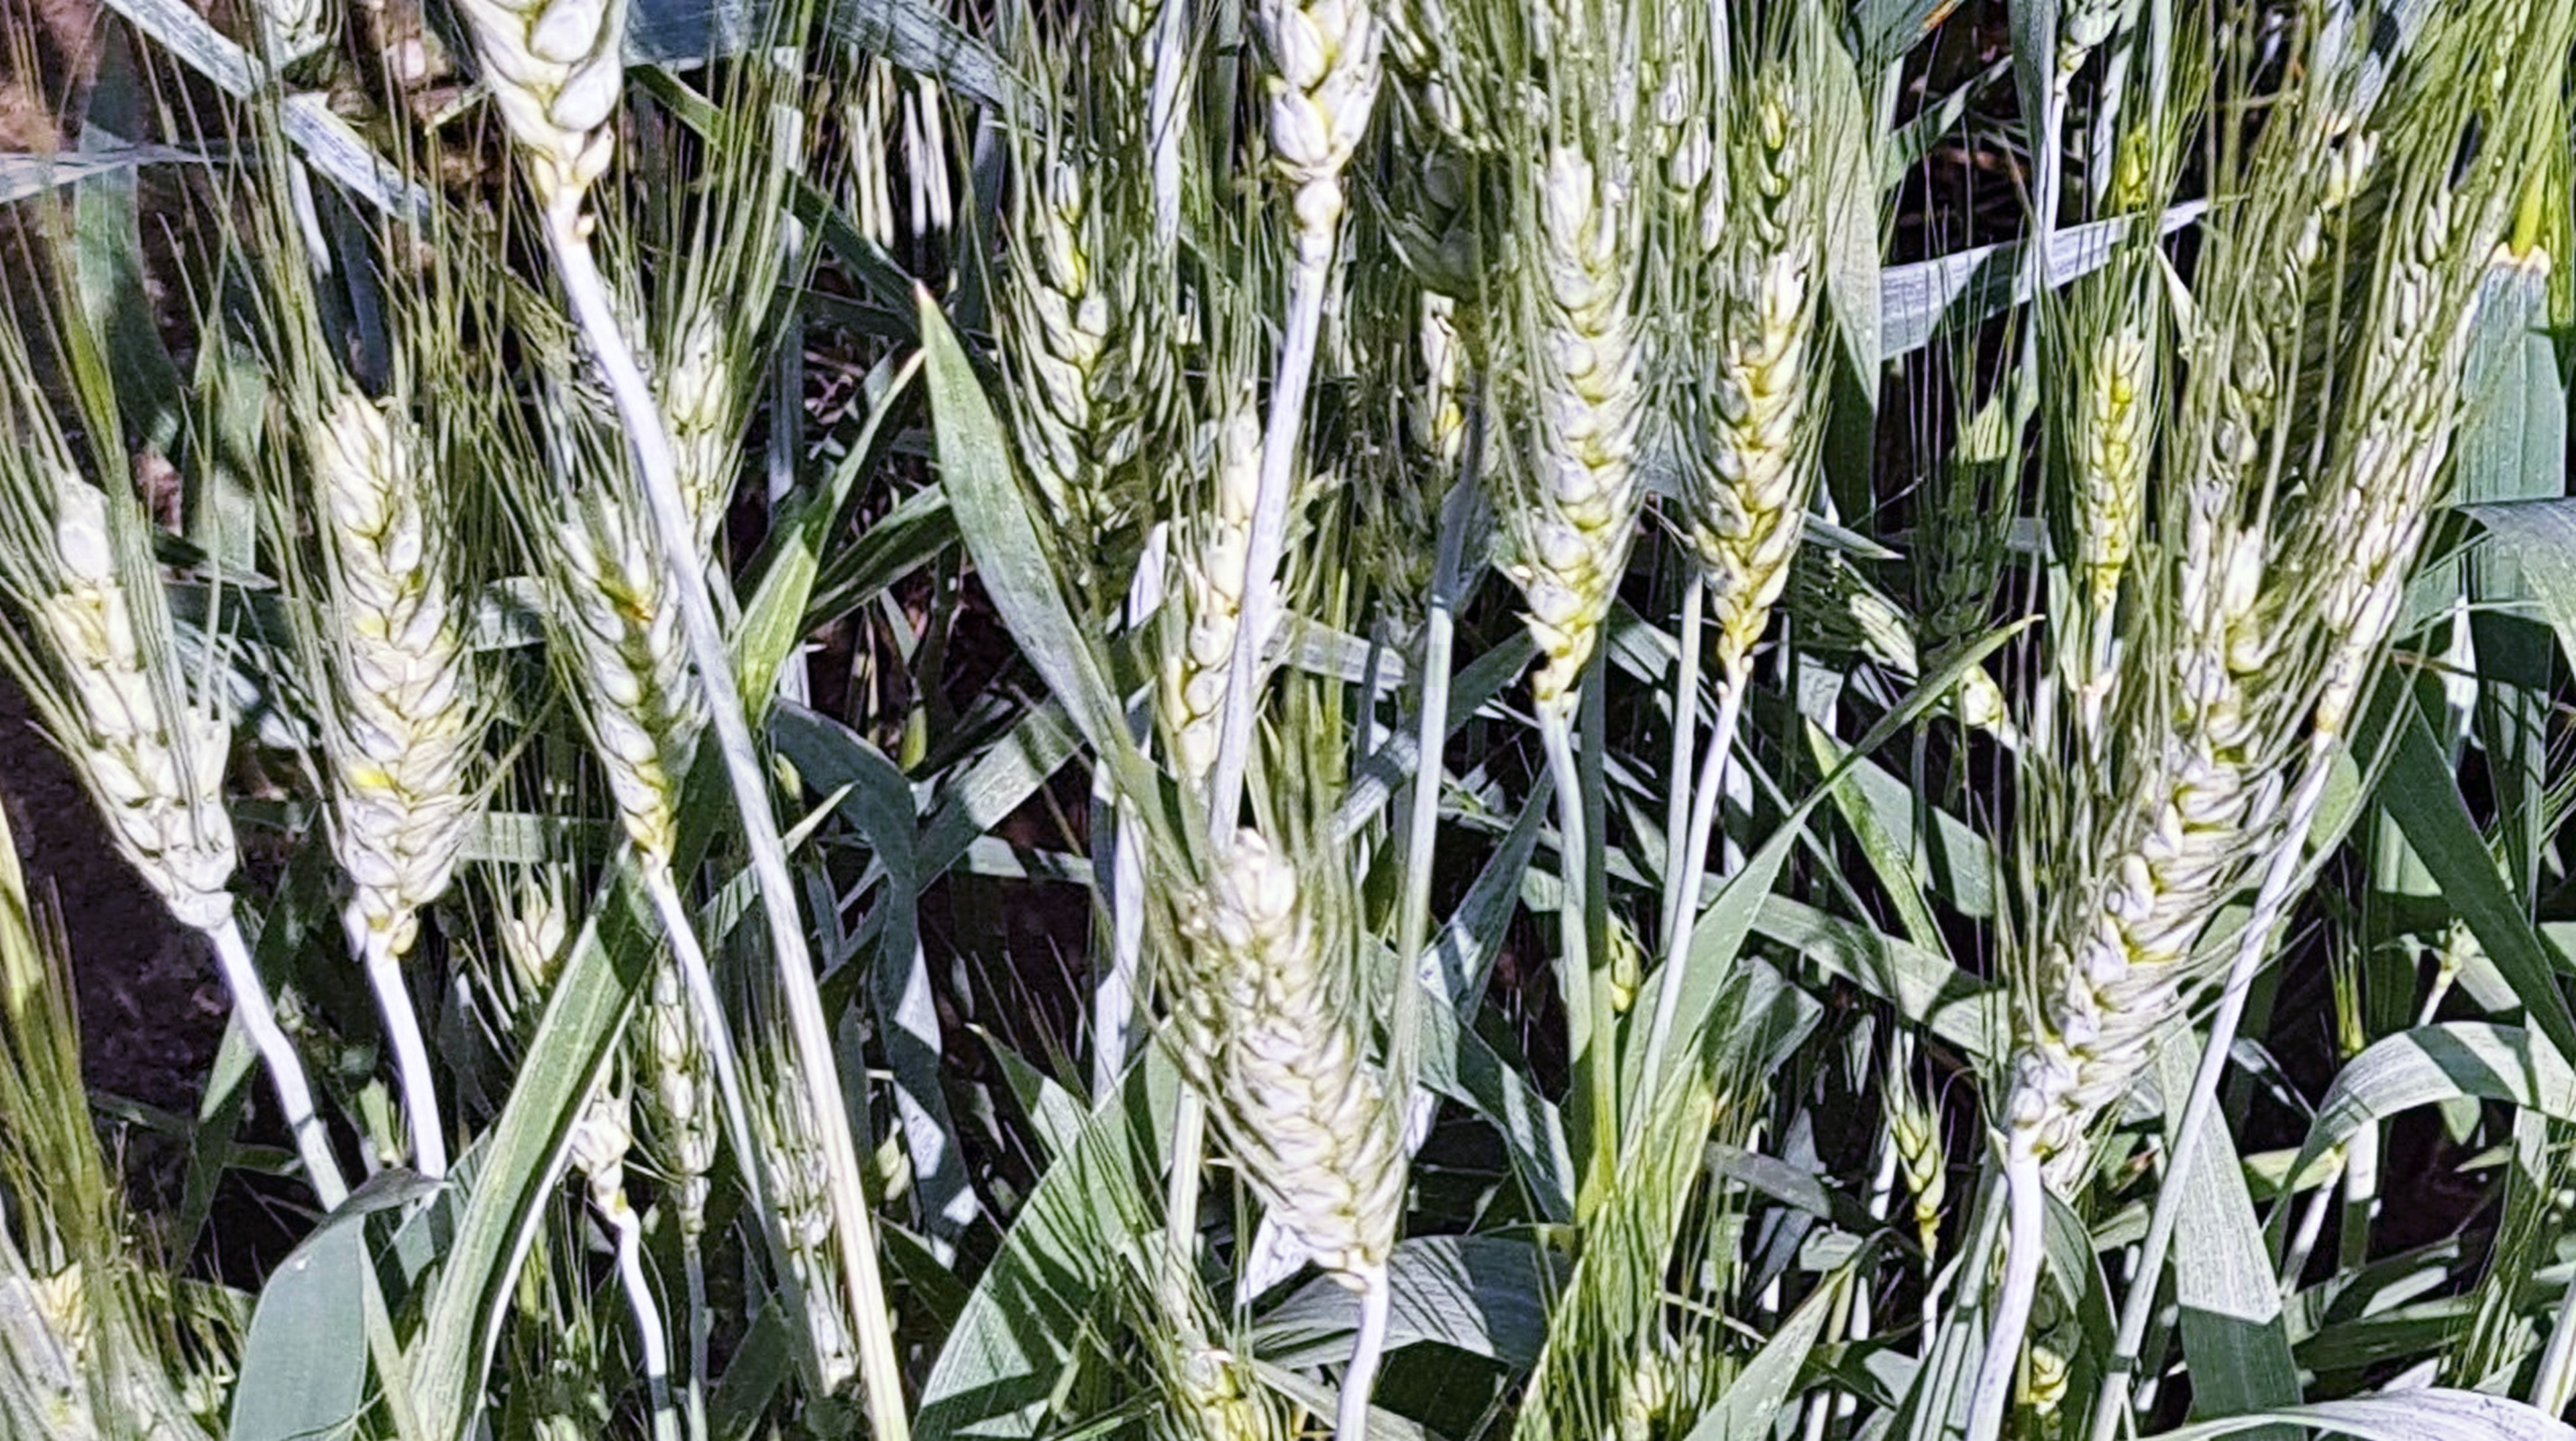Healthy Wheat: (1465, 142, 1852, 680), (287, 354, 504, 944)
